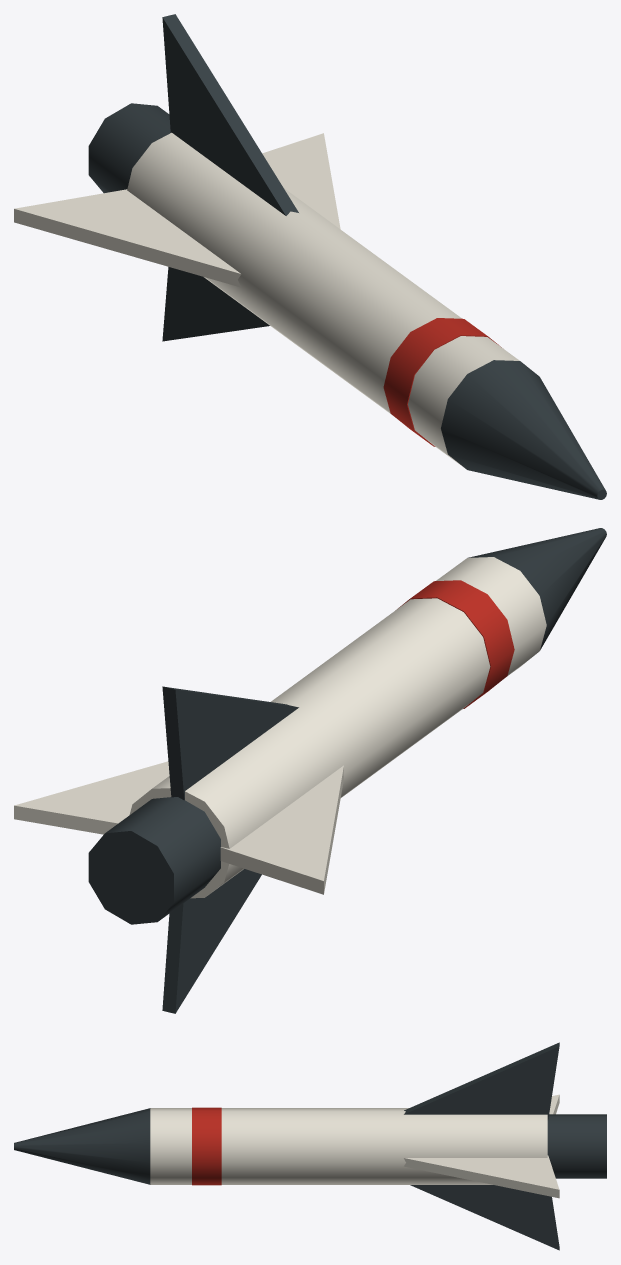
3 views of the same model, one above another, from view 1: azimuth 30°, elevation 25°; view 2: azimuth 150°, elevation 25°; view 3: azimuth 270°, elevation 25° (orthographic). The views are drawn at different scales.
Visible parts, largest first — view 1: missile-large-fleet-armor, missile-large-fleet-machine, missile-large-fleet-red; view 2: missile-large-fleet-armor, missile-large-fleet-machine, missile-large-fleet-red; view 3: missile-large-fleet-armor, missile-large-fleet-machine, missile-large-fleet-red.
Part boxes in pixels (x1=…): missile-large-fleet-armor: x1=14, y1=132, x2=519, y2=467; missile-large-fleet-machine: x1=88, y1=14, x2=606, y2=499; missile-large-fleet-red: x1=383, y1=318, x2=501, y2=446; missile-large-fleet-armor: x1=14, y1=557, x2=546, y2=898; missile-large-fleet-machine: x1=88, y1=528, x2=606, y2=1013; missile-large-fleet-red: x1=398, y1=580, x2=514, y2=708; missile-large-fleet-armor: x1=150, y1=1094, x2=559, y2=1198; missile-large-fleet-machine: x1=14, y1=1042, x2=606, y2=1250; missile-large-fleet-red: x1=192, y1=1107, x2=221, y2=1185.
Bounding box in the file's own units: 4.8 × 4.8 × 12.63.
